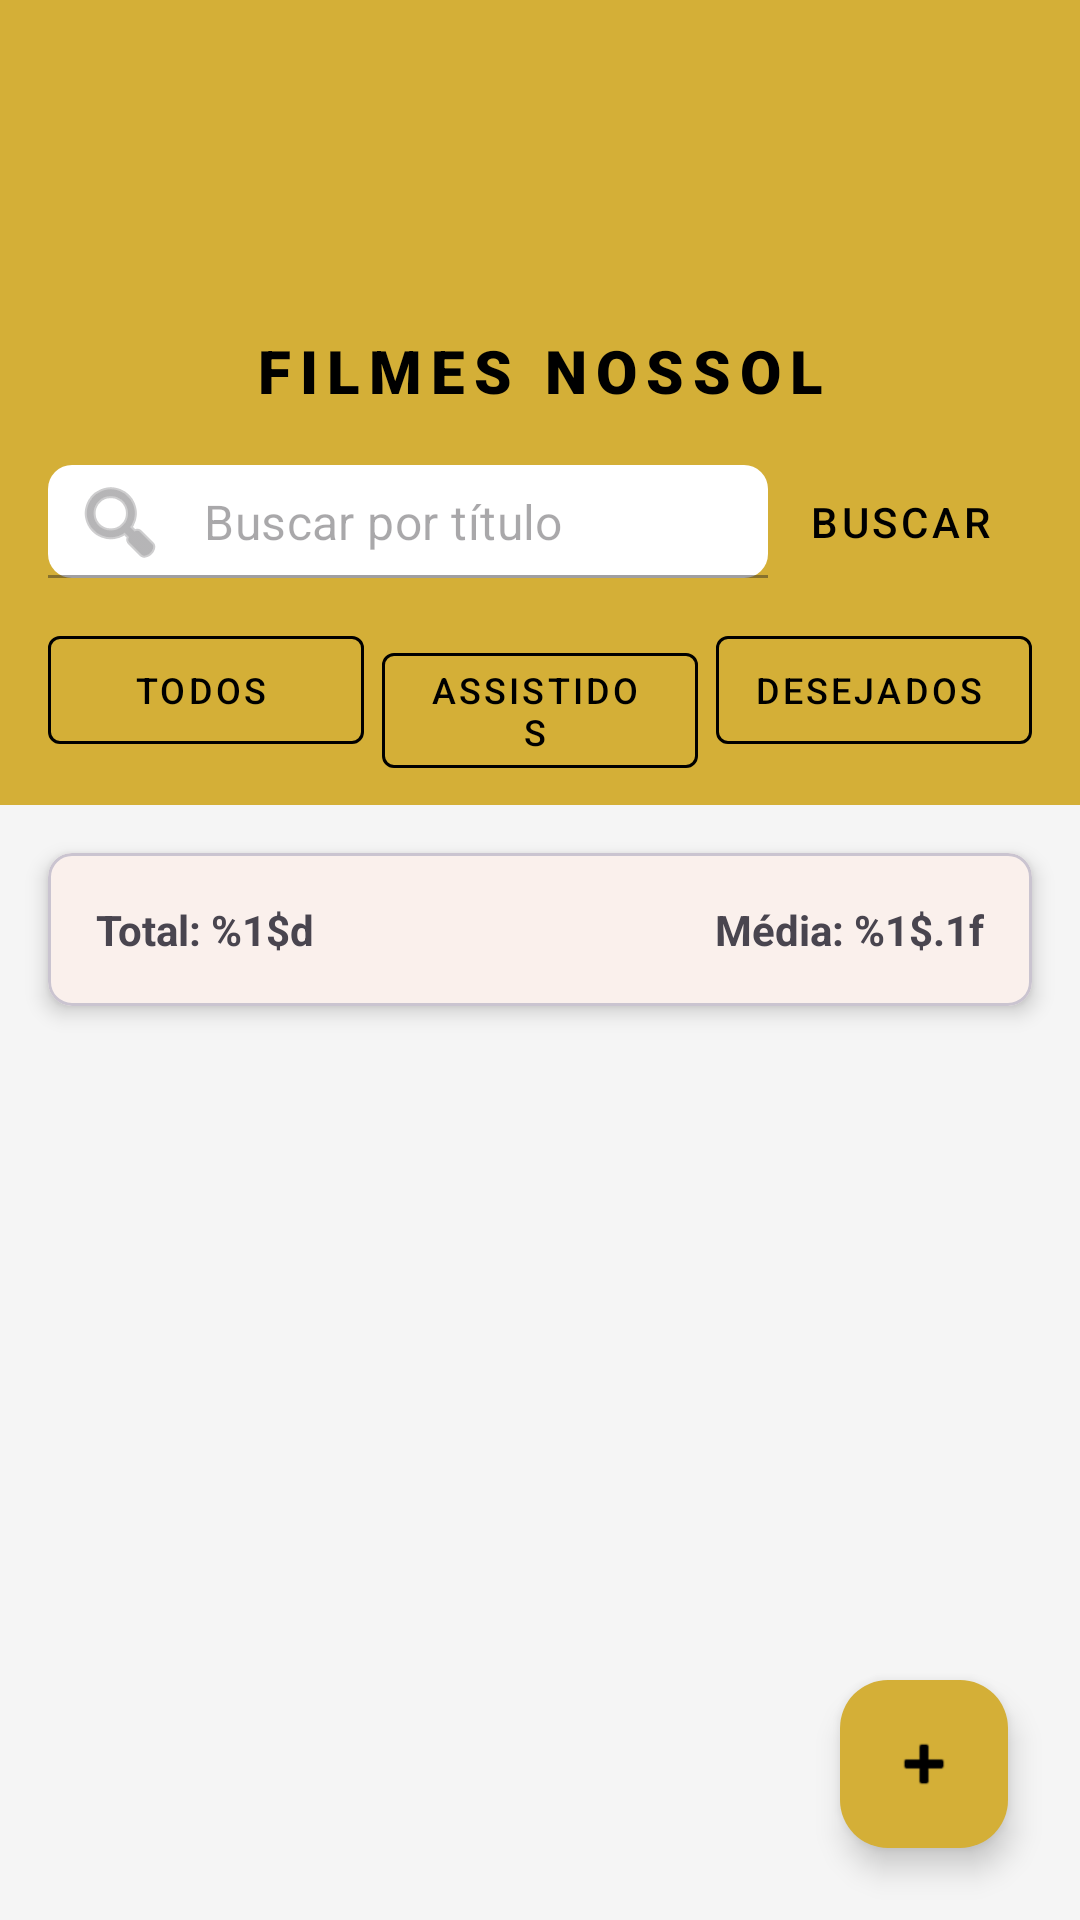

Screen size 1080×1920. Icon name, then its center in pixels as point (x, y):
Adicionar Filme: point (924, 1764)
